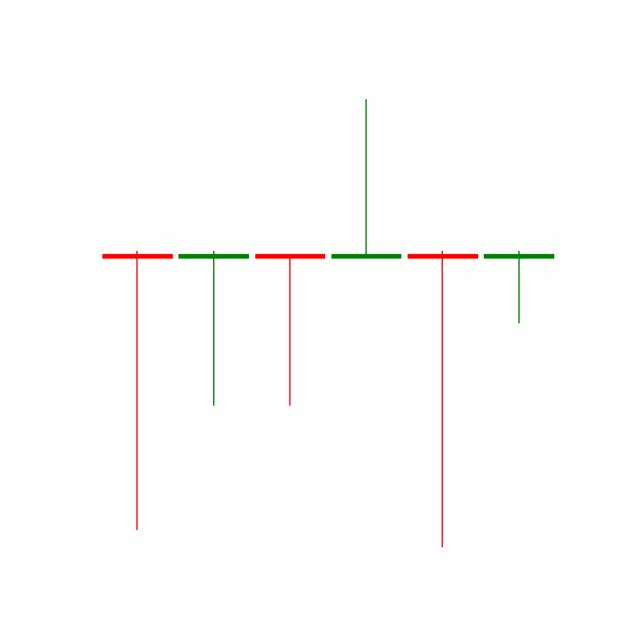Dragonfly Doji: (403, 247, 481, 550)
